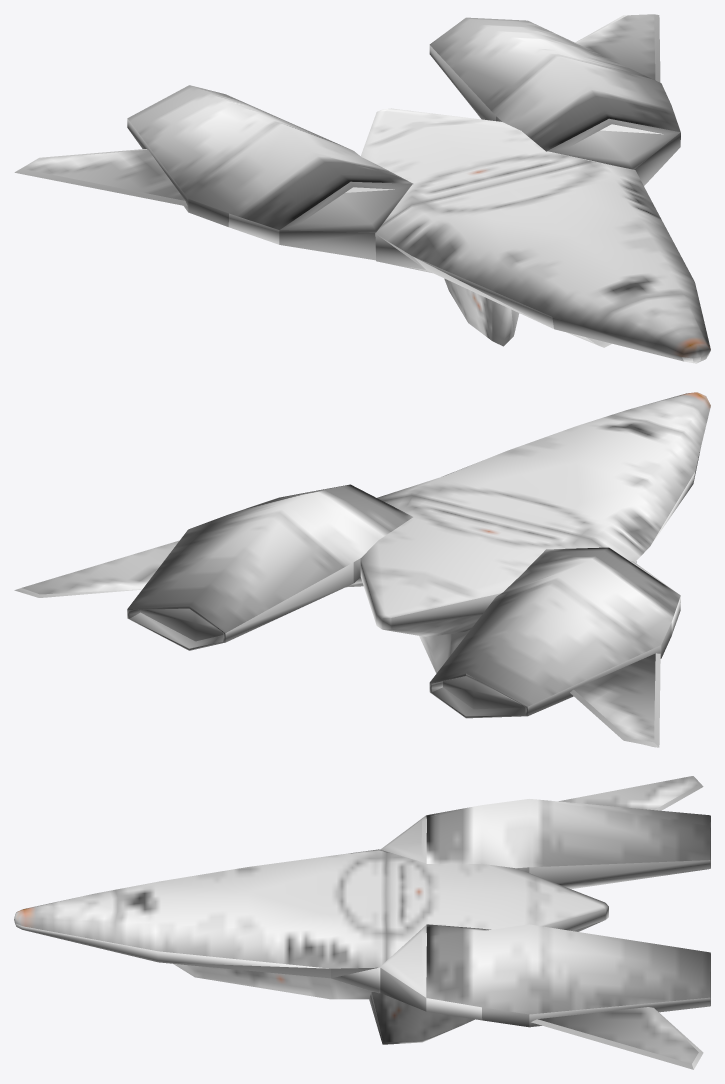
Rendered from stan.ico.obj.
The picture shows the model from 3 angles, top to bottom: view 1: azimuth 30°, elevation 25°; view 2: azimuth 150°, elevation 25°; view 3: azimuth 270°, elevation 25°; orthographic projection. The views are drawn at different scales.
Size of the model in its own units: 4.66 by 1.35 by 4.67.
1 material, 1 textured.
